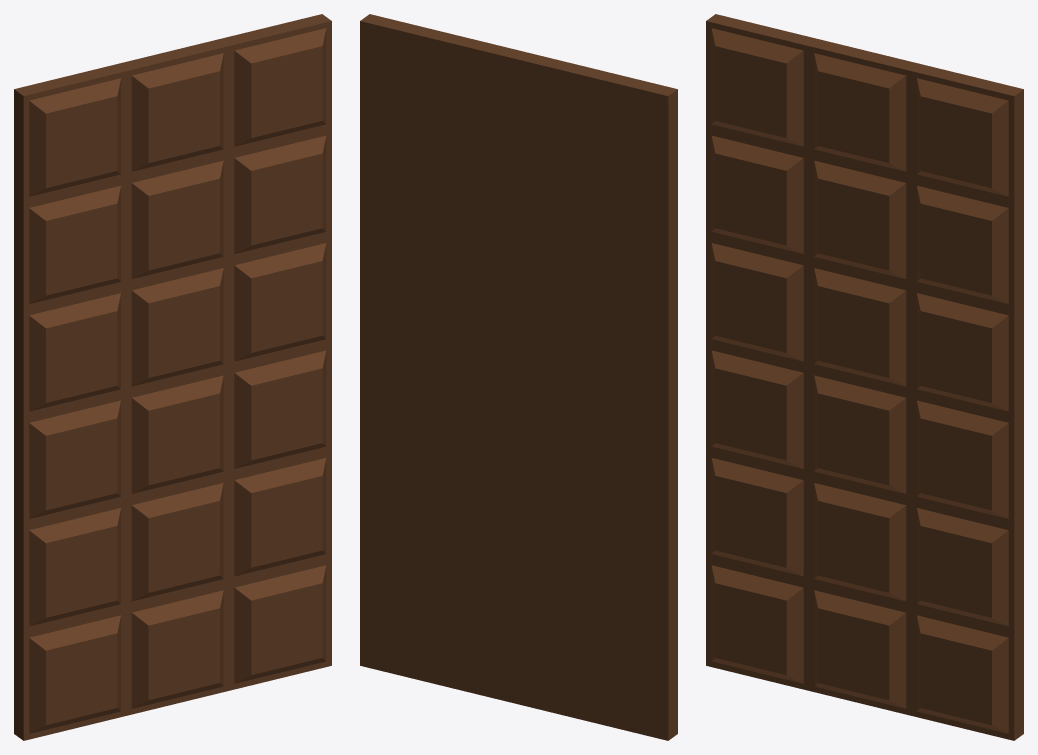
The model's file is chocolatebrown.fbx.
3 renders of one model, left to right at view 1: azimuth 30°, elevation 25°; view 2: azimuth 150°, elevation 25°; view 3: azimuth 330°, elevation 25°, orthographic.
Parts seen in each view (by area): view 1: chocolate1; view 2: chocolate1; view 3: chocolate1.
Part boxes in pixels (x1=…): chocolate1: x1=14, y1=14, x2=331, y2=740; chocolate1: x1=360, y1=14, x2=677, y2=740; chocolate1: x1=706, y1=14, x2=1023, y2=740.
Size of the model in its own units: 35.61 by 71.2 by 3.22.
